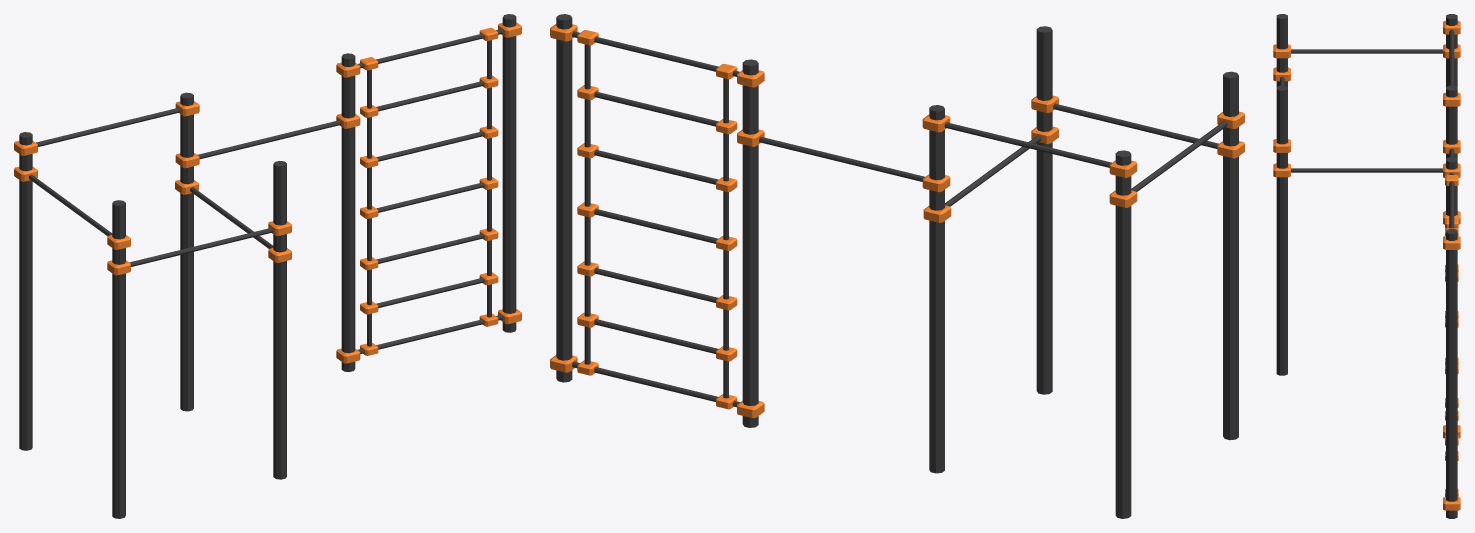
Rendered from Crossbar.fbx.
3 views of the same model, side by side, from view 1: azimuth 30°, elevation 25°; view 2: azimuth 150°, elevation 25°; view 3: azimuth 270°, elevation 25° (orthographic). The views are drawn at different scales.
Visible parts, largest first — view 1: Crossbar; view 2: Crossbar; view 3: Crossbar.
Boxes of the visible parts, bbox=[...] form: Crossbar: bbox=[14, 14, 521, 518]; Crossbar: bbox=[550, 14, 1244, 518]; Crossbar: bbox=[1273, 14, 1460, 518].
Size of the model in its own units: 2010 by 1201 by 716.
